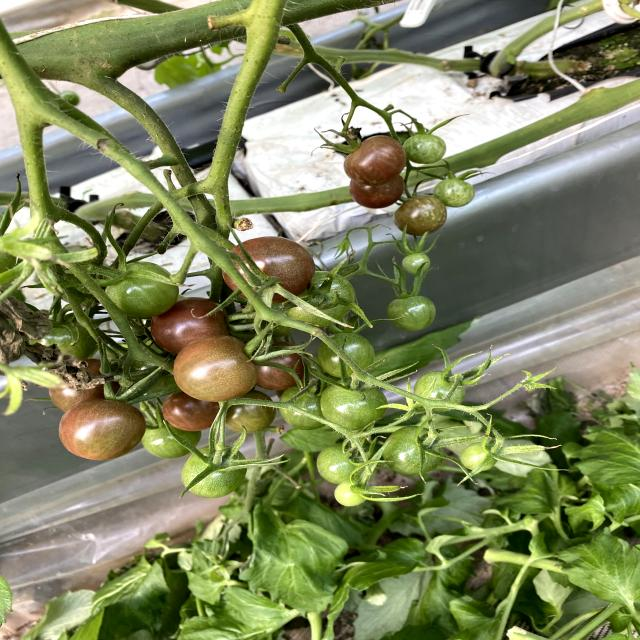ripe0: (320, 379, 389, 428), (182, 446, 245, 498), (381, 426, 443, 477), (318, 444, 373, 483), (388, 296, 437, 332), (405, 131, 446, 166), (460, 442, 499, 475), (436, 175, 476, 206), (401, 253, 433, 276)
ripe1: (220, 236, 316, 301), (173, 335, 258, 401), (60, 399, 146, 462), (343, 136, 408, 182), (150, 306, 234, 339), (163, 395, 216, 431), (395, 197, 445, 235), (348, 175, 405, 208), (259, 353, 305, 389)
